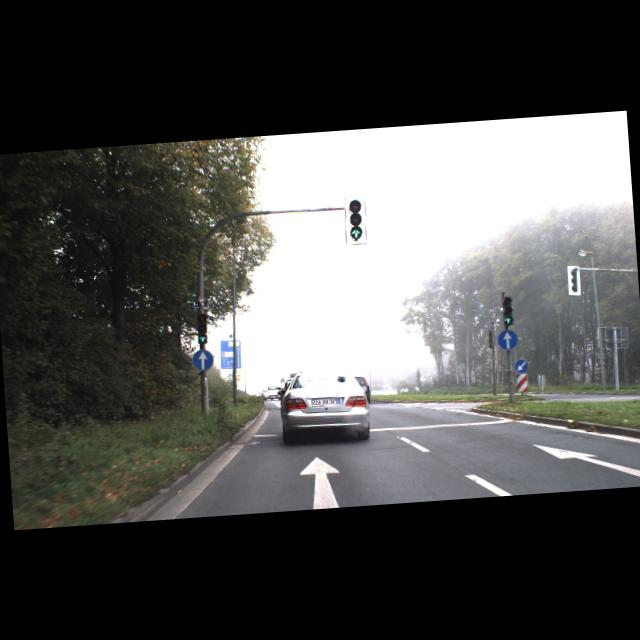mandatory: (191, 348, 214, 371), (498, 330, 518, 350), (514, 358, 529, 374)
